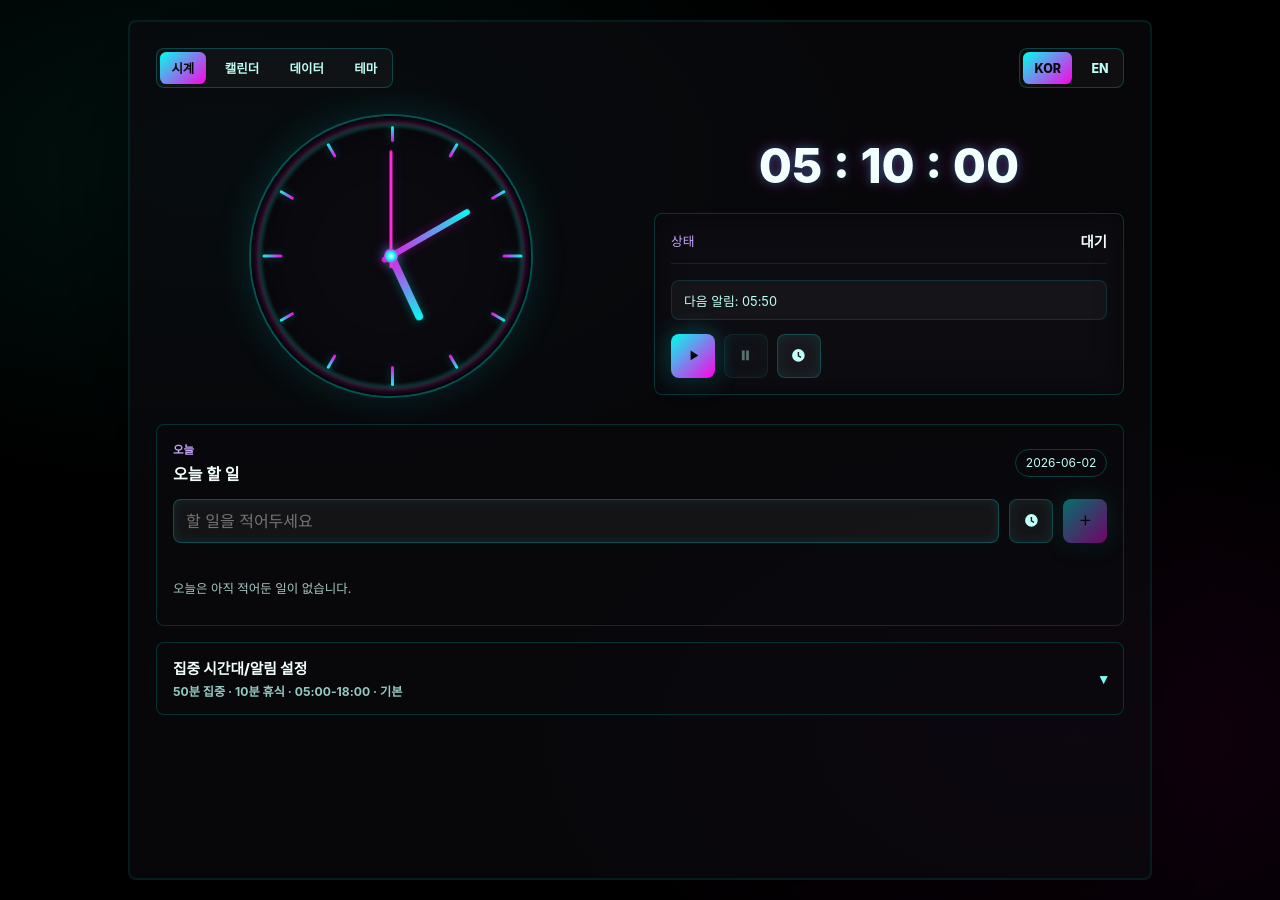
Scenario: RhythmApp › uses locale-independent time pickers for rhythm start and end
Click the button with aria-label "English": (1100, 68) [1080,52,1120,84]
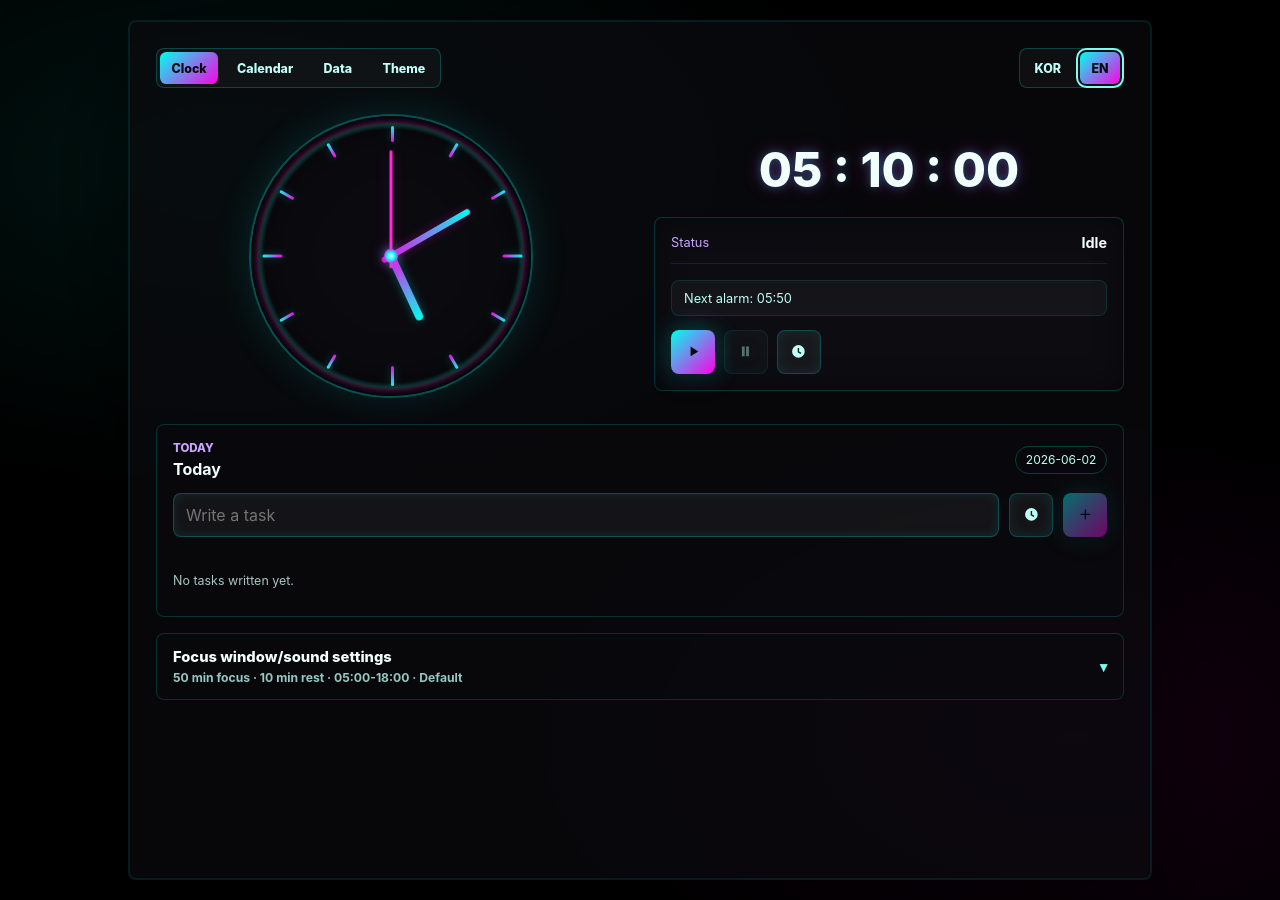
Click the button that starts with "Focus window/sound settings": (282, 657) [157,634,1123,699]
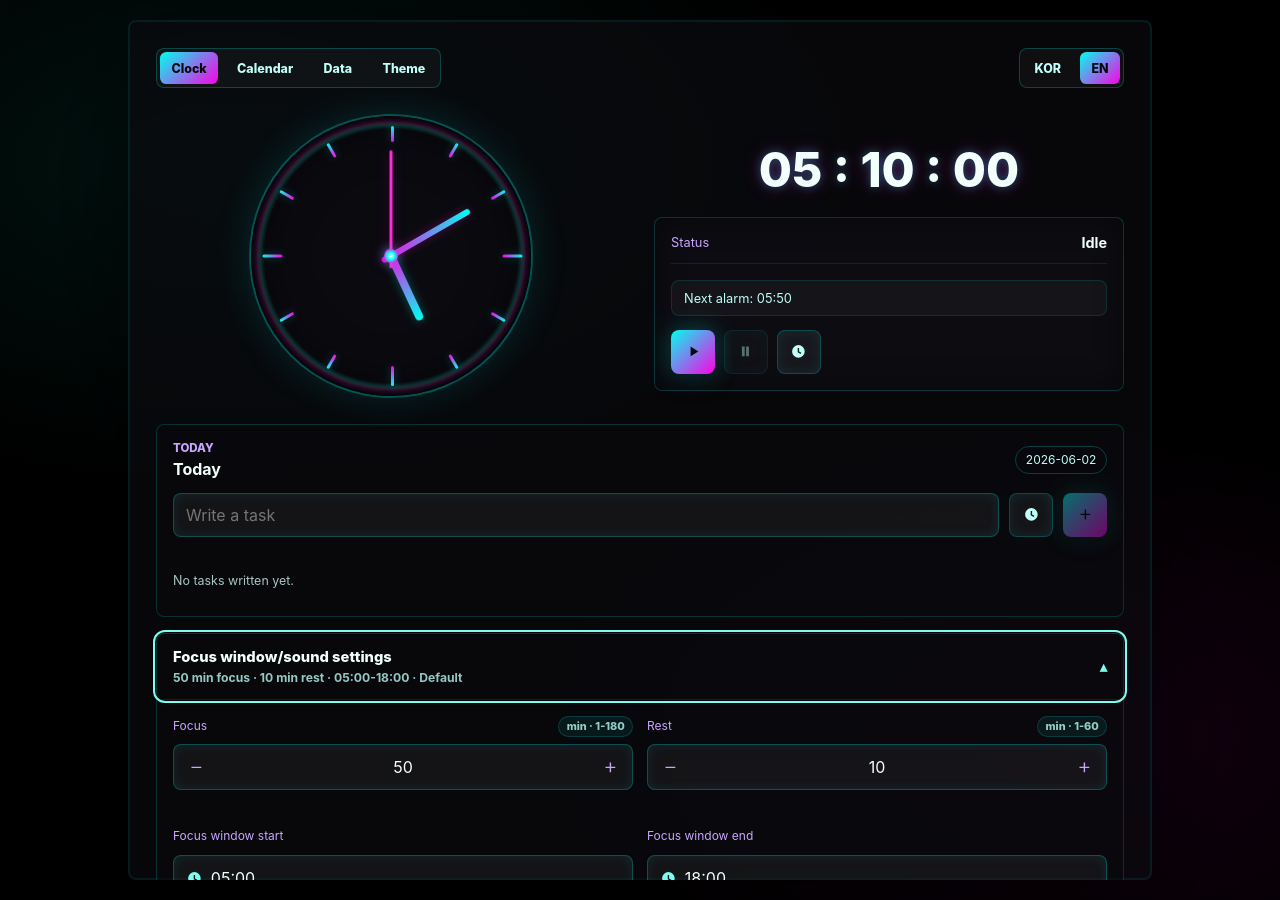
Click the button named "Focus window start": (233, 878) [174,856,632,899]
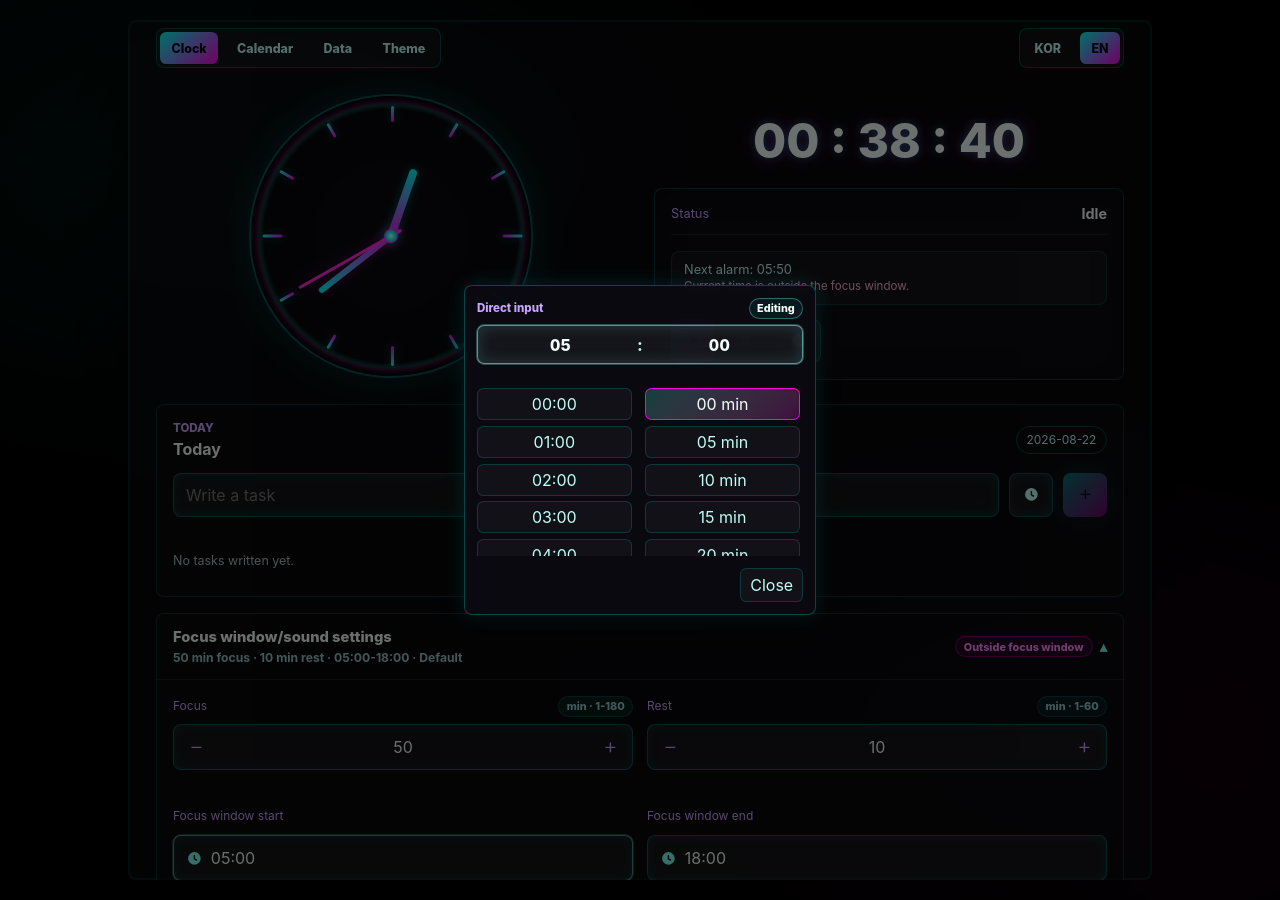
Expected: the label named "Focus window start direct input" holds "0500", [477,298,803,364]
